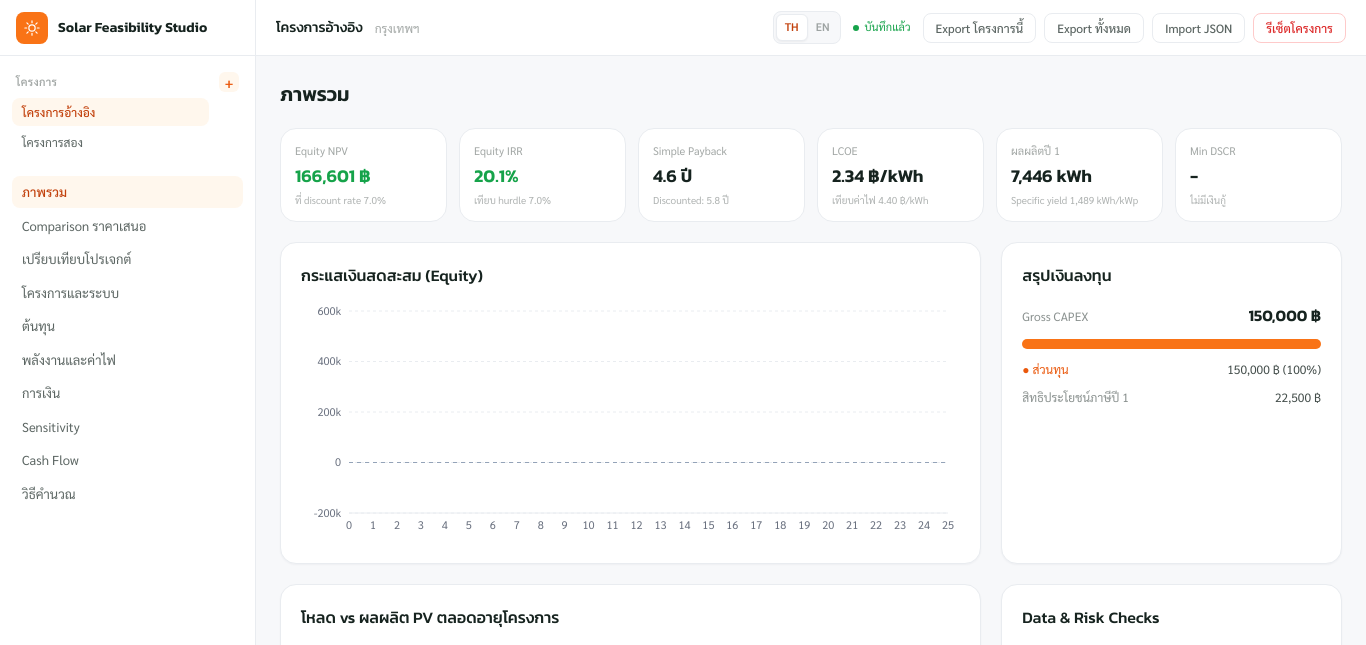
portfolio page (Phase 6) › clicking a project name activates it
Click the link "เปรียบเทียบโปรเจกต์".
click(77, 258)  # box [22,250,131,267]
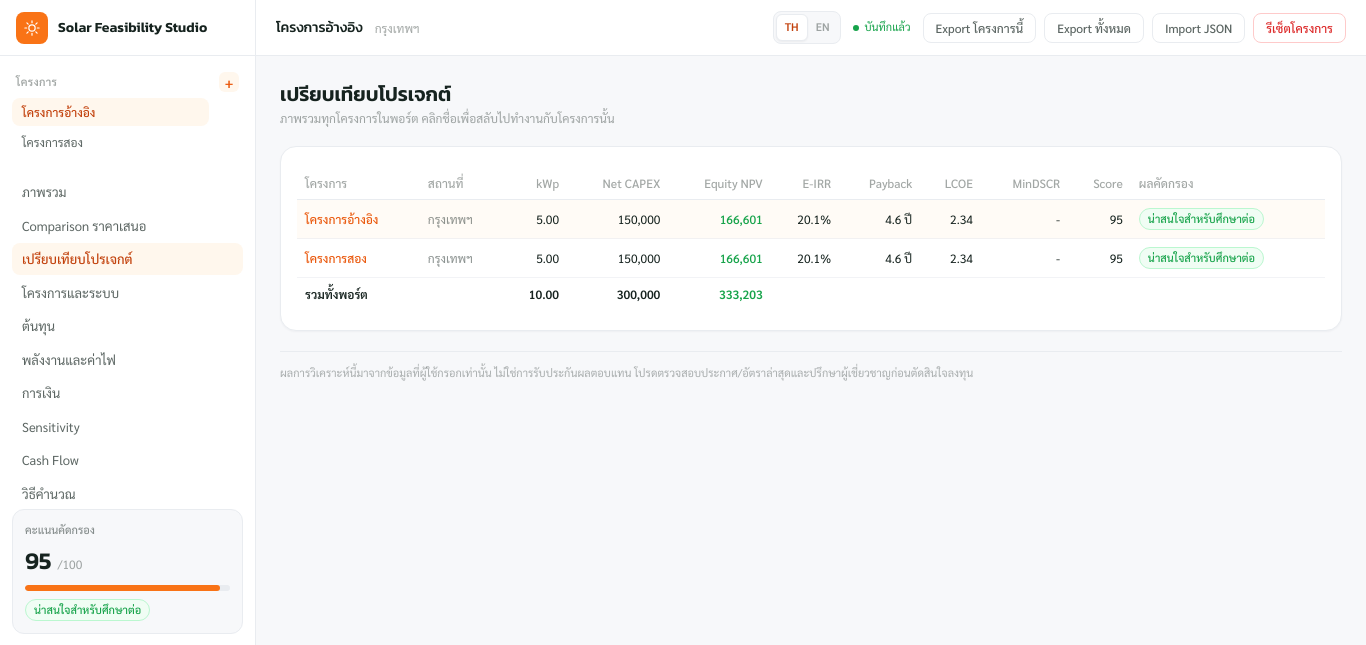
Click the button "โครงการสอง" below "สถานที่".
click(336, 258)  # box [305,250,367,266]
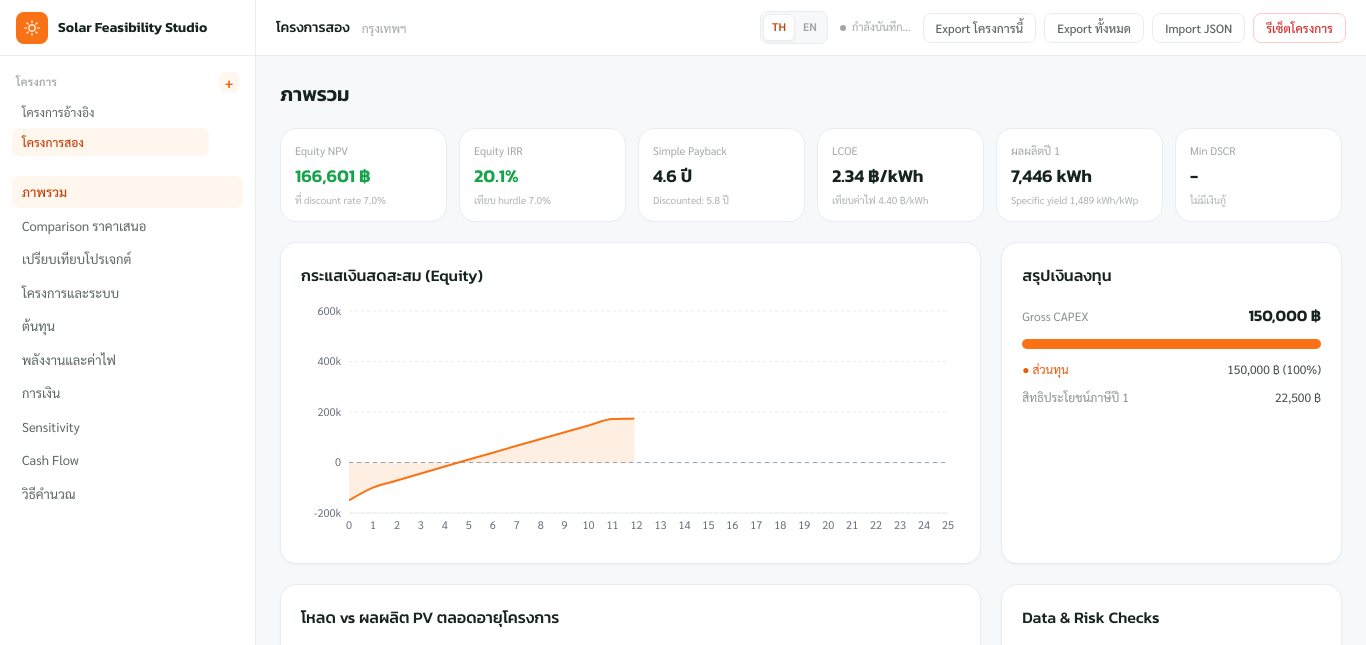
Expected: the heading "โครงการสอง" is shown, [276,18,350,38]
